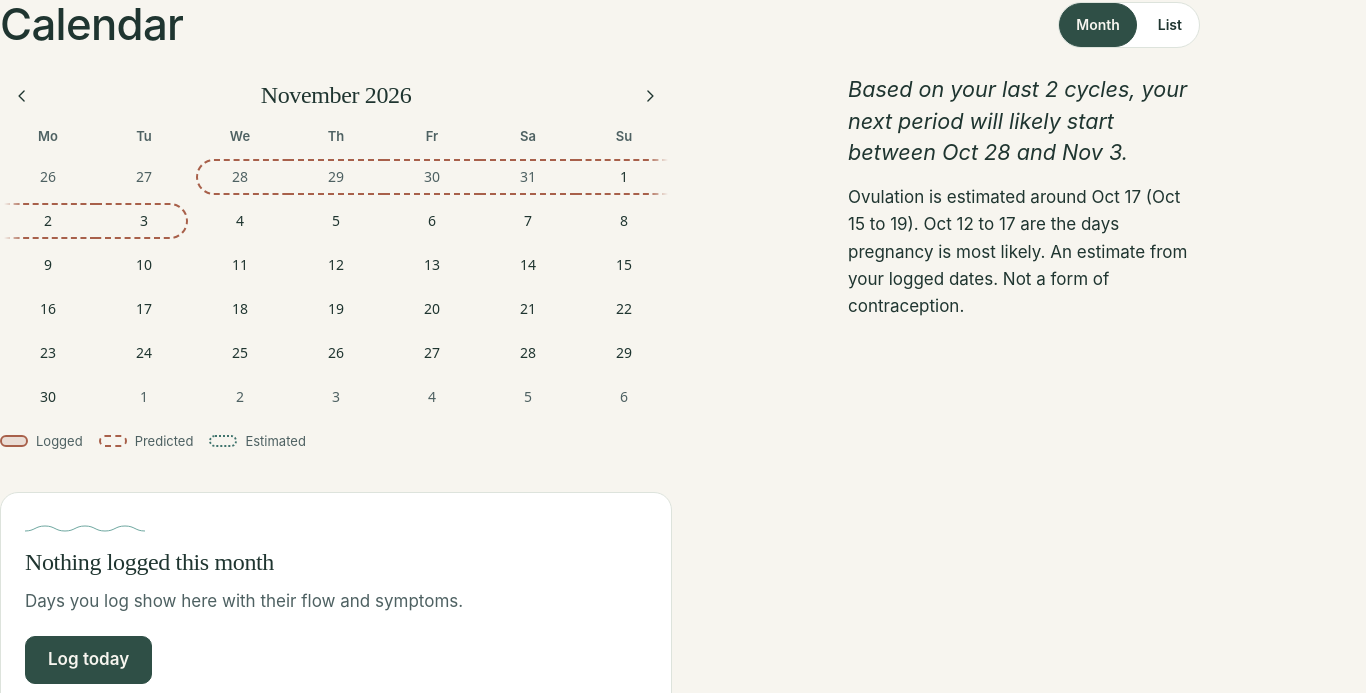
the month view › puts Nothing logged this month outside the grid even when the month has predictions
The image size is (1366, 693).
Expected: the button named "Sunday, November 1, 2026, period expected" is shown, [576,155,672,199]
Expected: the element "Nothing logged this month" shows "Days you log show here with their flow and symptoms.", [25,592,463,612]
# Log today opens today's sheet, wherever the grid is.
Click the button "Log today" at (89, 660), box [25,636,152,684]
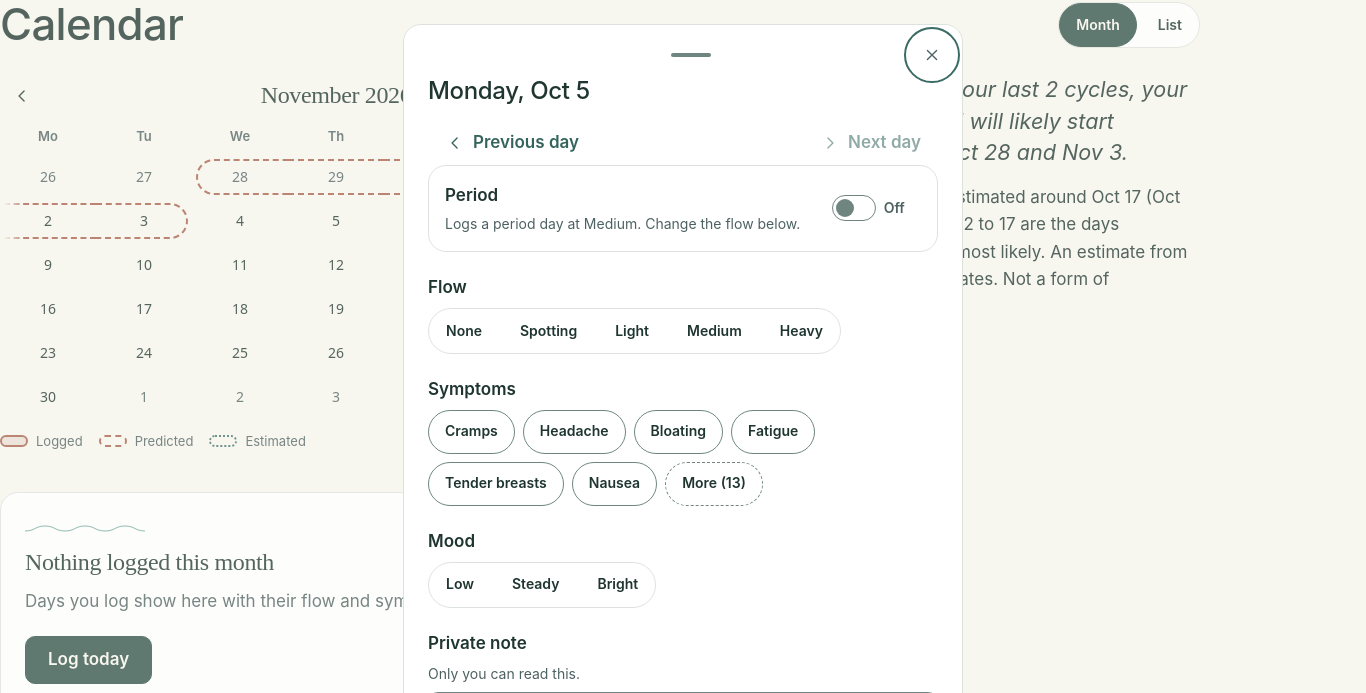
Result: the heading "Monday, Oct 5" is shown at [428,76,590,105]
